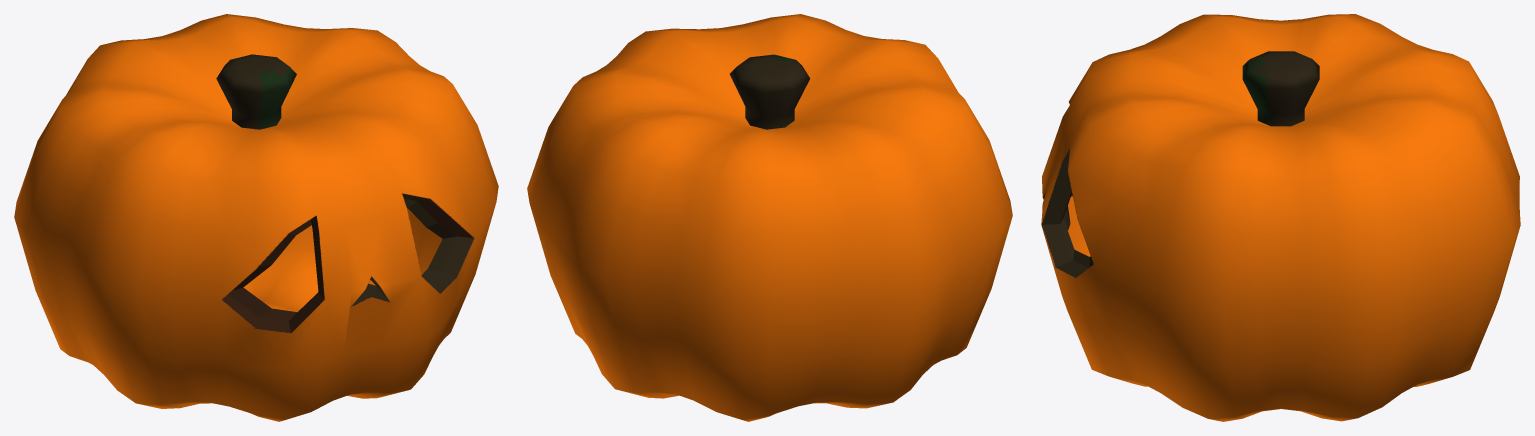
Rendered from pumpkin_jack_decoration.fbx.
The picture shows the model from 3 angles, left to right: view 1: azimuth 30°, elevation 25°; view 2: azimuth 150°, elevation 25°; view 3: azimuth 270°, elevation 25°; orthographic projection. The views are drawn at different scales.
Parts seen in each view (by area): view 1: pumpkin_jack; view 2: pumpkin_jack; view 3: pumpkin_jack.
Part boxes in pixels (x1,y1,x2,y2): pumpkin_jack: [14, 14, 498, 421]; pumpkin_jack: [527, 14, 1012, 421]; pumpkin_jack: [1041, 14, 1520, 421].
Size of the model in its own units: 2.81 by 1.93 by 2.81.
Materials: 1 (1 with a texture image).
